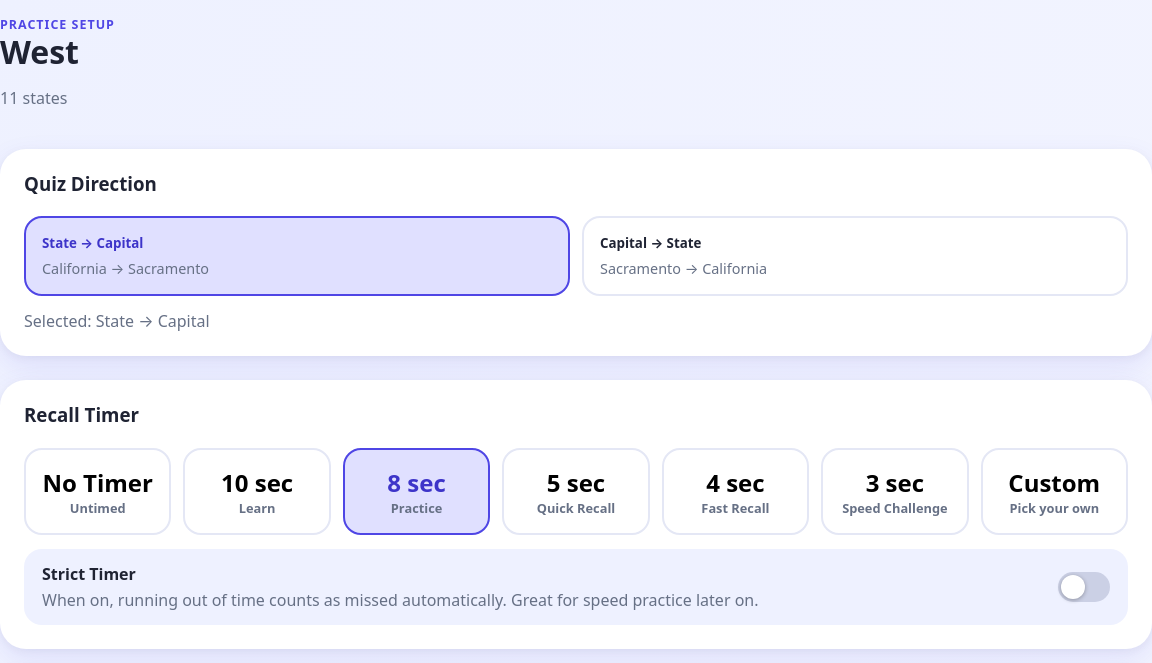
Test: PracticeSetupScreen custom timer › rejects an out-of-range custom timer value
Click the button "Custom Pick your own".
click(1054, 491)  # box [981,448,1128,535]
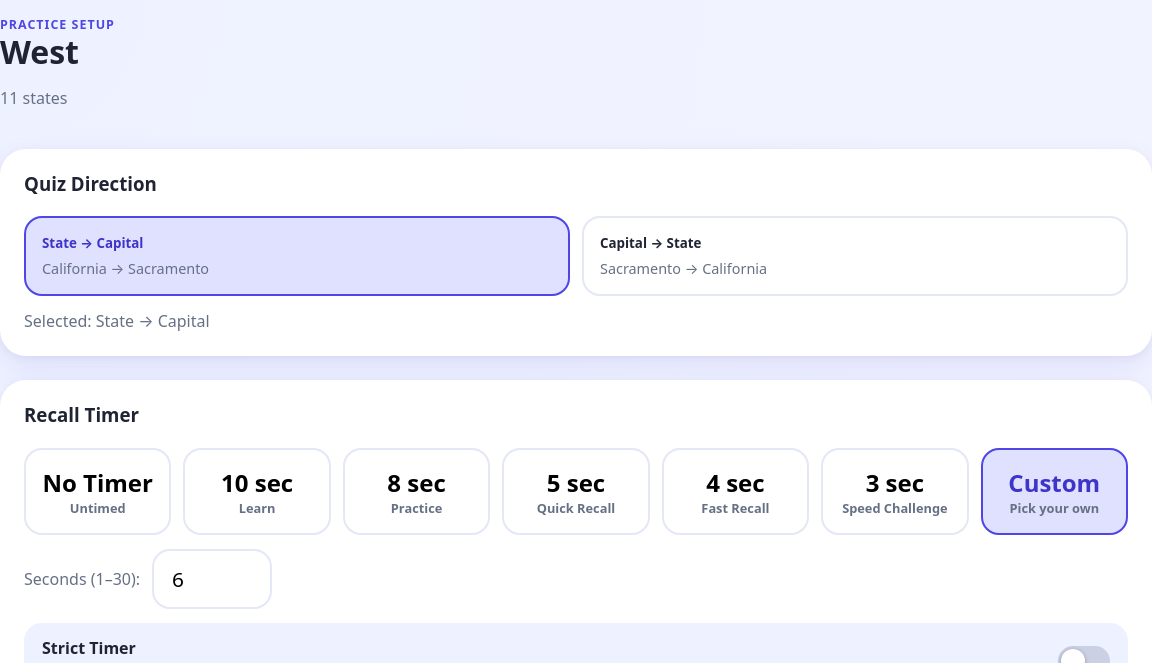
Replace the text in the number field labelled "Seconds (1–30):" with "99" at (212, 579), box [152,549,272,609]
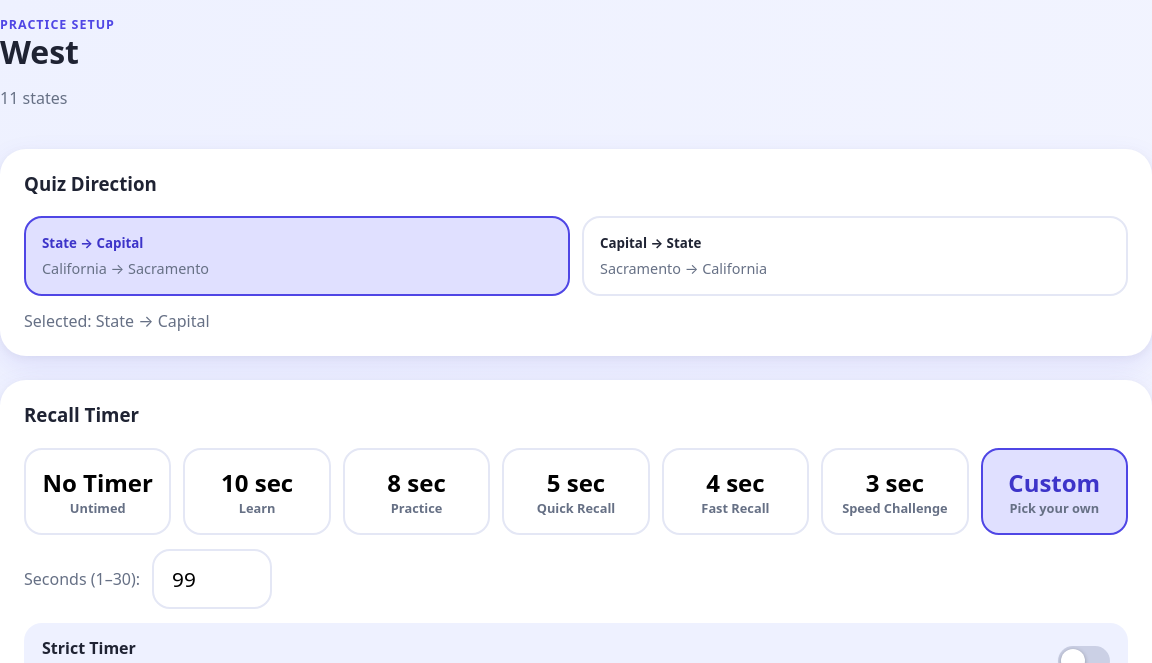
Leave the number field labelled "Seconds (1–30):", box [152,549,272,609]
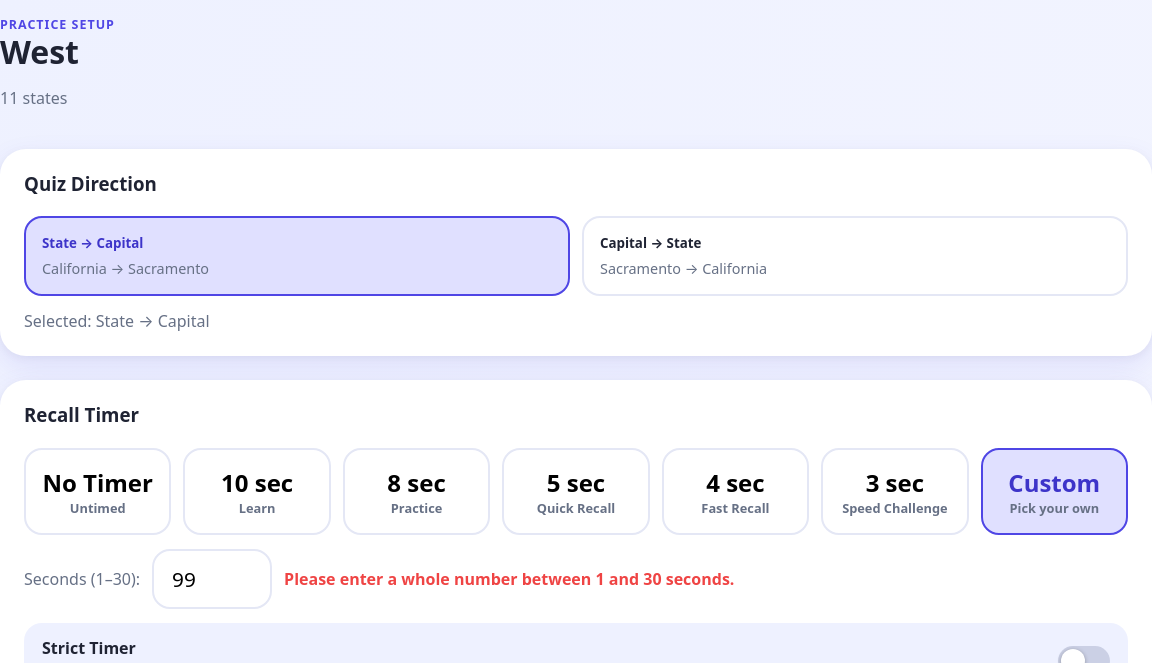
expect the text "Please enter a whole number between 1 and 30 seconds." is shown: met, box [284,568,734,590]
